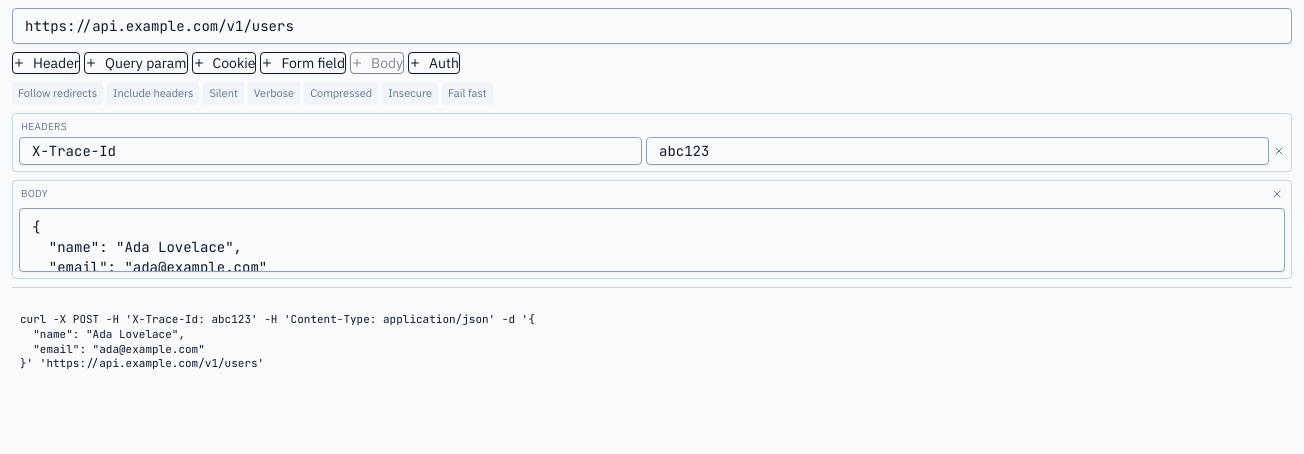
Test case: CurlBuilderWidget › appends query parameters to the url
This screenshot has width=1304, height=454.
Click the button "Query param": {"x": 136, "y": 63} [84,52,188,74]
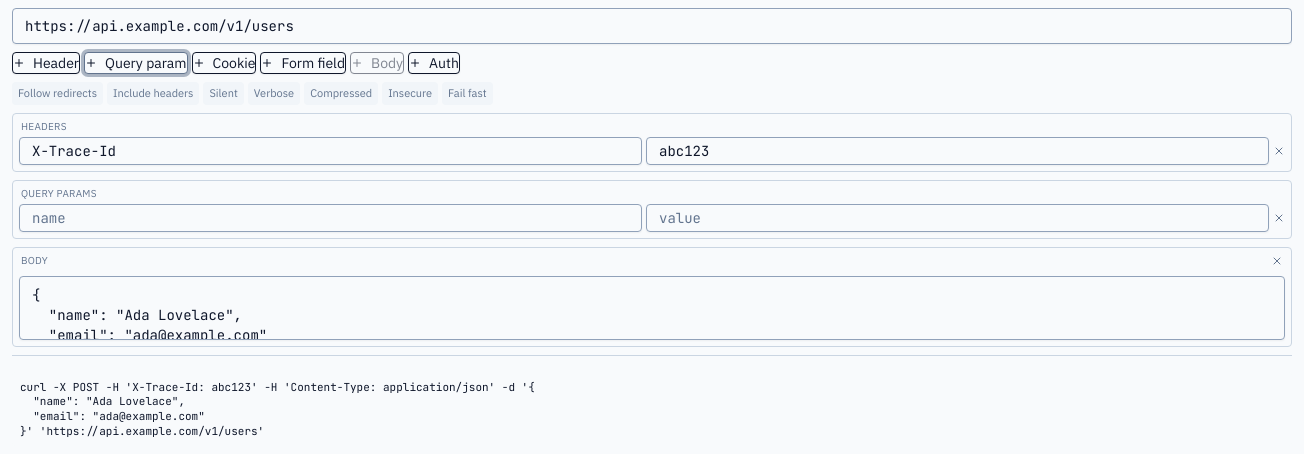
In the field named "Query param 1 name": {"x": 330, "y": 218} [19,204,642,232], type "page"
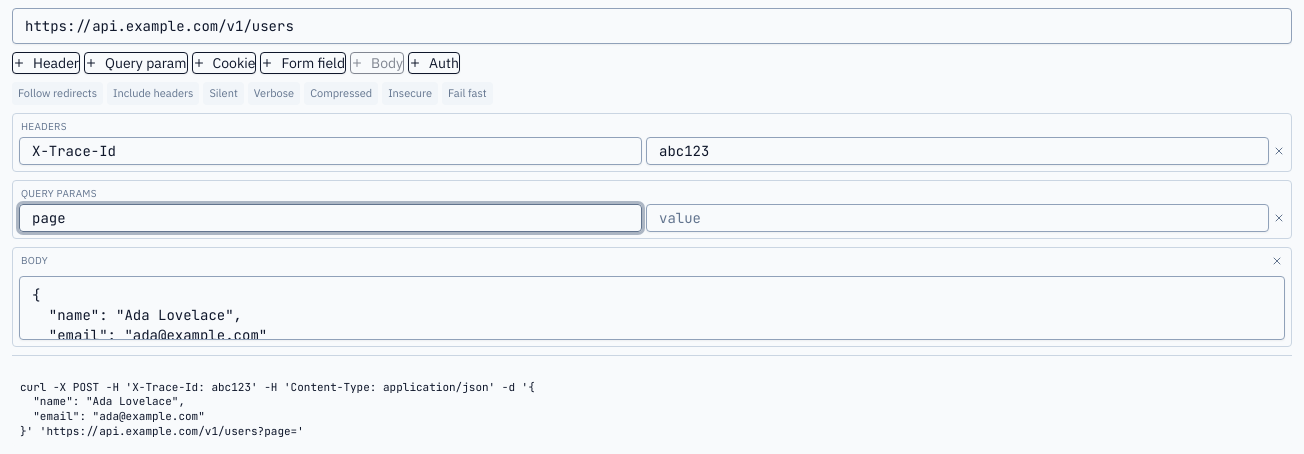
In the field named "Query param 1 value": {"x": 958, "y": 218} [646,204,1269,232], type "2"
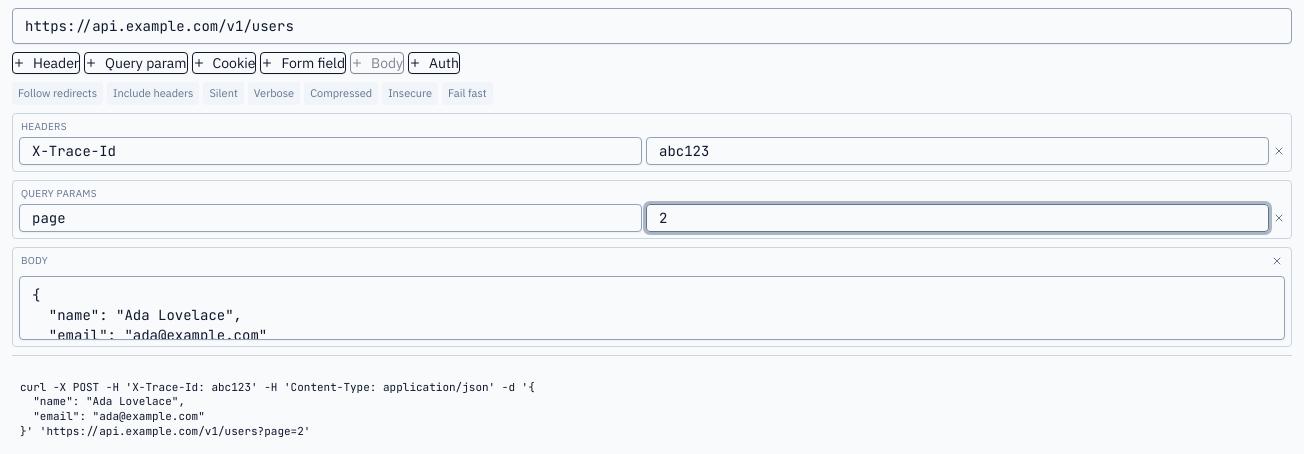
Expected: the text "curl " shows "'https://api.example.com/v1/users?page=2'", [20,380,535,438]
